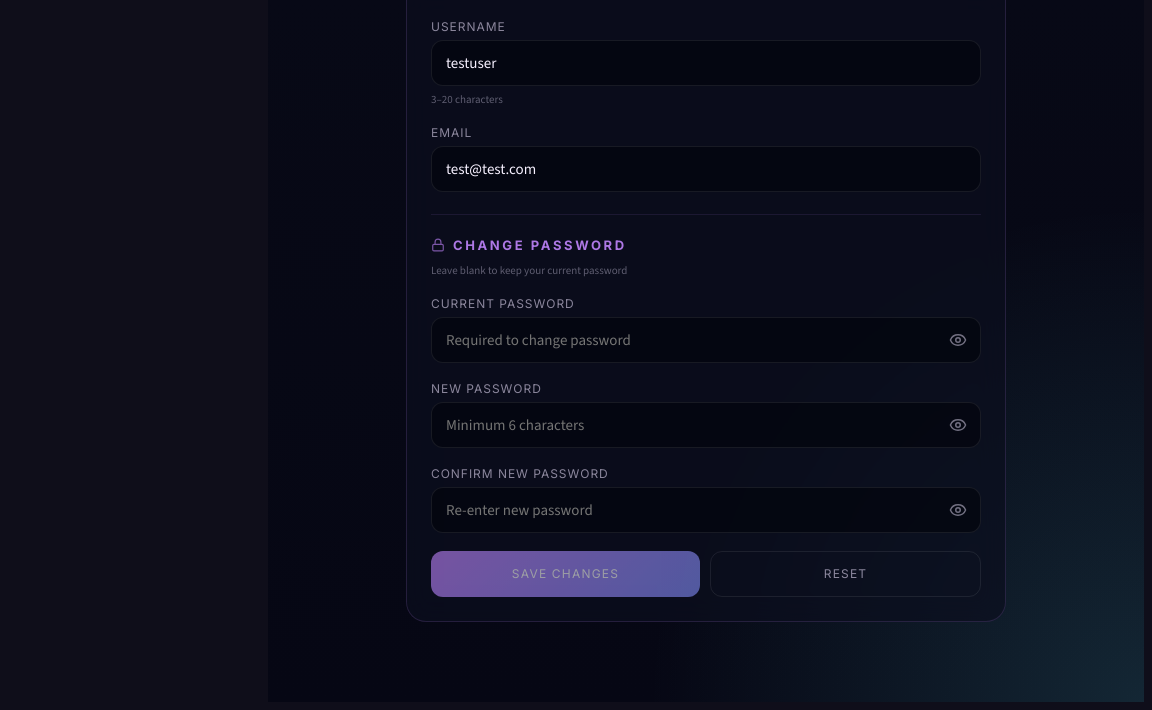
Test case: ProfilePage — Signed In › shows error toast when new passwords do not match
(page scrolled)
Type "newpass1" into the password field with placeholder "Minimum 6 characters" at (706, 425), box [431, 402, 981, 448]
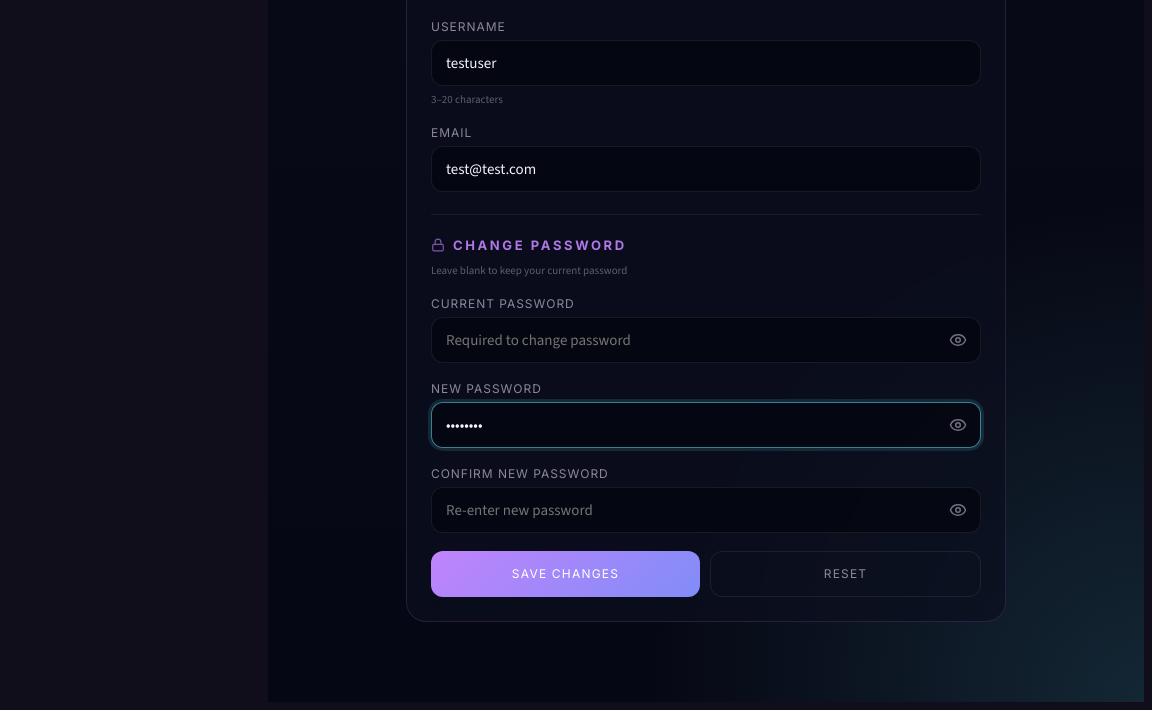
Type "newpass2" into the password field with placeholder "Re-enter new password" at (706, 510), box [431, 487, 981, 533]
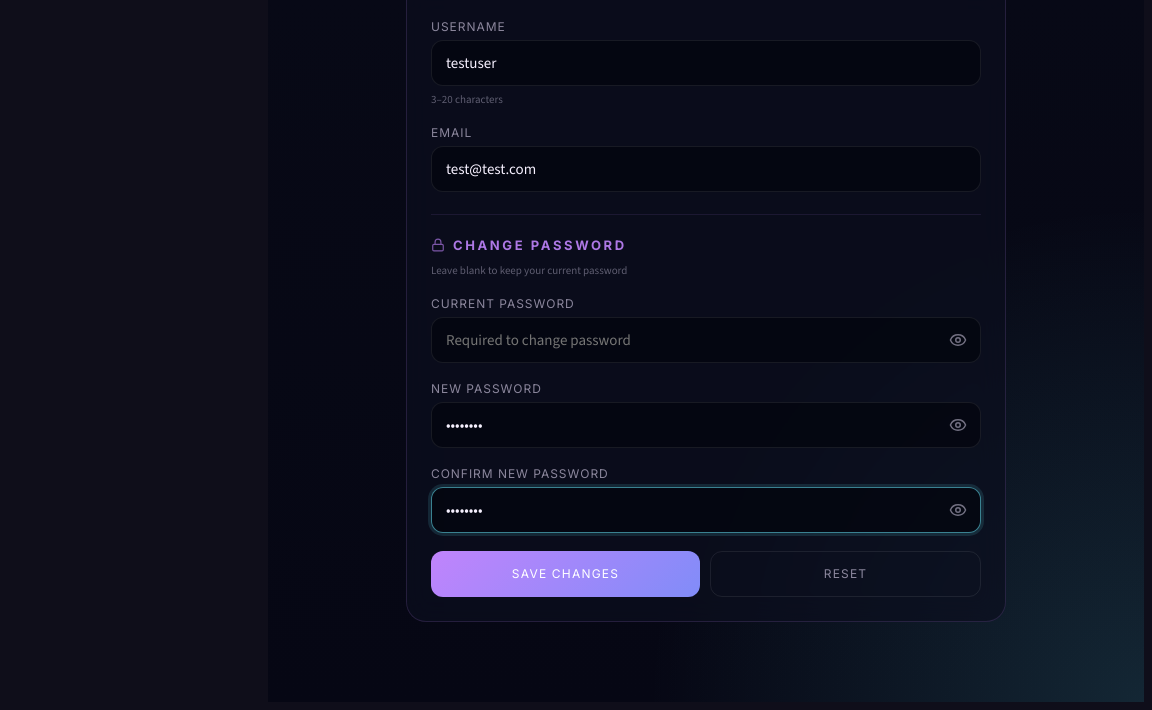
// Need to also type current password to enable save
Type "oldpass" into the password field with placeholder "Required to change password" at (706, 340), box [431, 317, 981, 363]
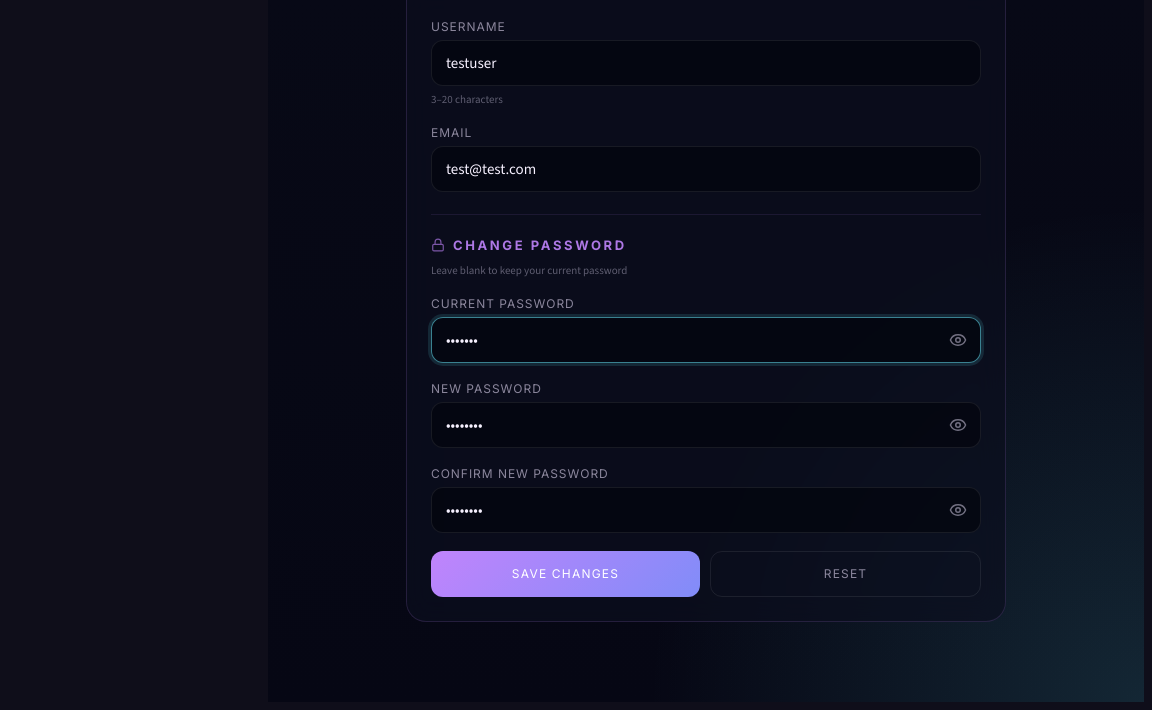
Click the button "Save Changes" at (566, 574), box [431, 551, 700, 597]
(page scrolled)
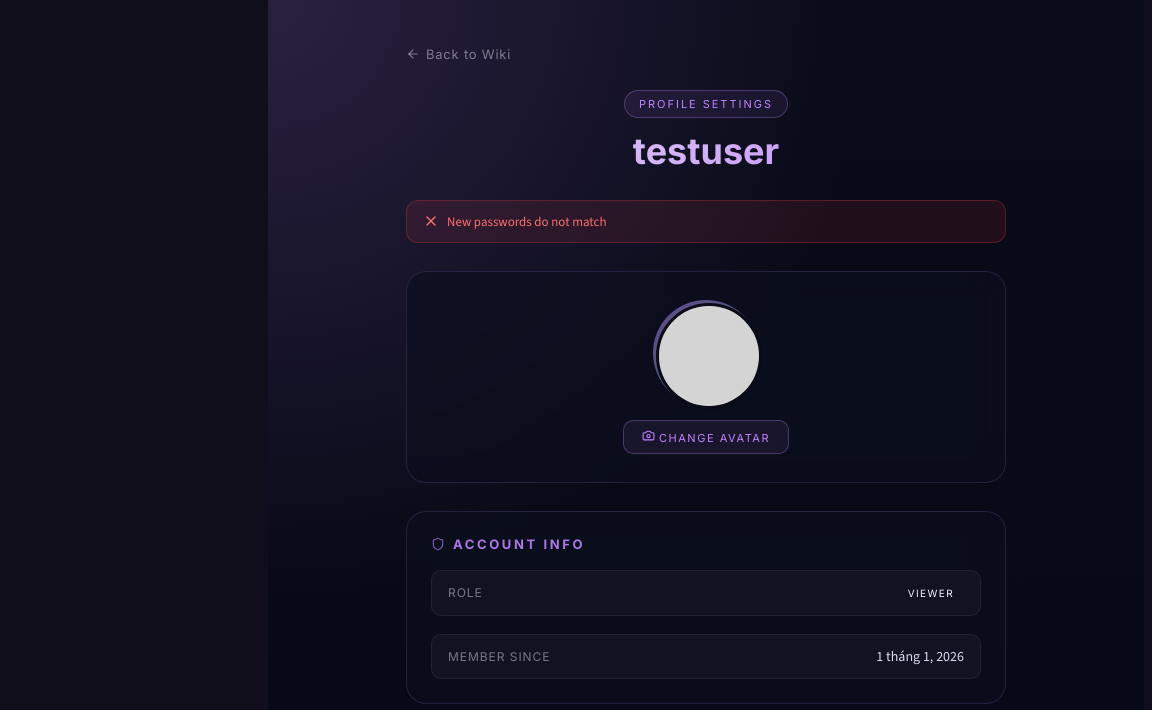
Now the text "New passwords do not match" is shown, box [406, 200, 1006, 243]
